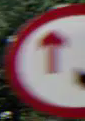Two way: (23, 14, 84, 90)
